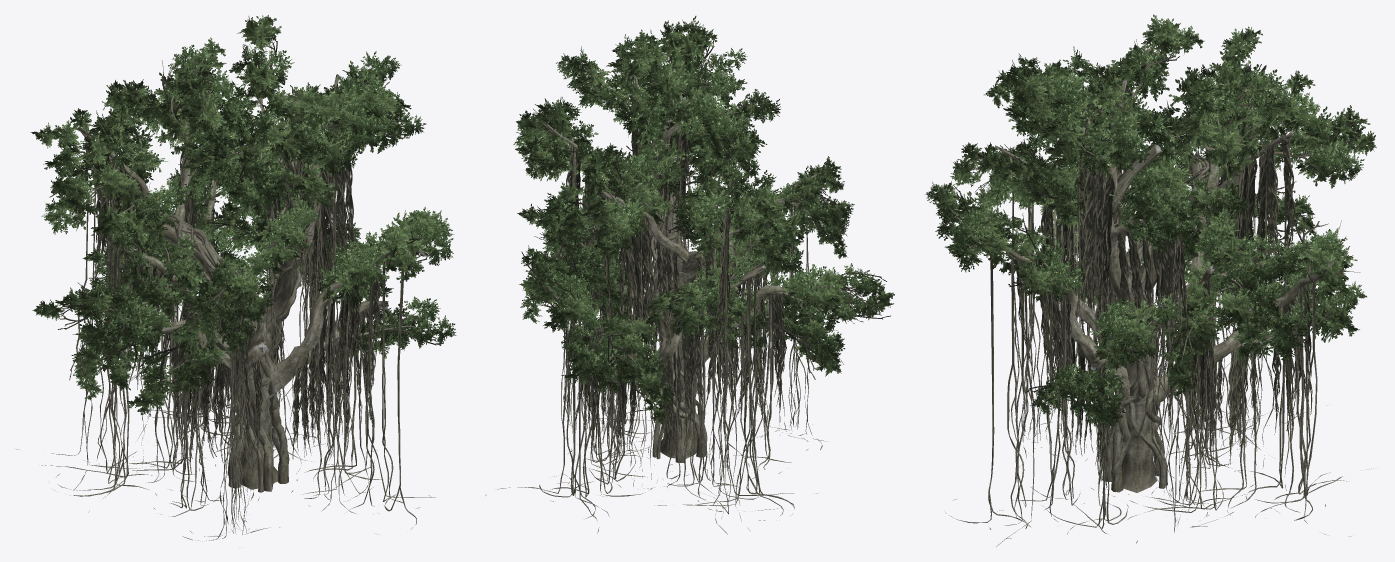
Rendered from banyan.glb.
The picture shows the model from 3 angles, left to right: view 1: azimuth 30°, elevation 25°; view 2: azimuth 150°, elevation 25°; view 3: azimuth 270°, elevation 25°; orthographic projection. The views are drawn at different scales.
Visible parts, largest first — view 1: ChineseBanyan_Med; view 2: ChineseBanyan_Med; view 3: ChineseBanyan_Med.
Boxes of the visible parts, box(x1,y1,x2,y2) form: ChineseBanyan_Med: box(16, 15, 456, 540); ChineseBanyan_Med: box(485, 16, 894, 534); ChineseBanyan_Med: box(925, 14, 1376, 546).
Size of the model in its own units: 17.83 by 20.27 by 17.67.
Materials: 7 (7 with a texture image).
